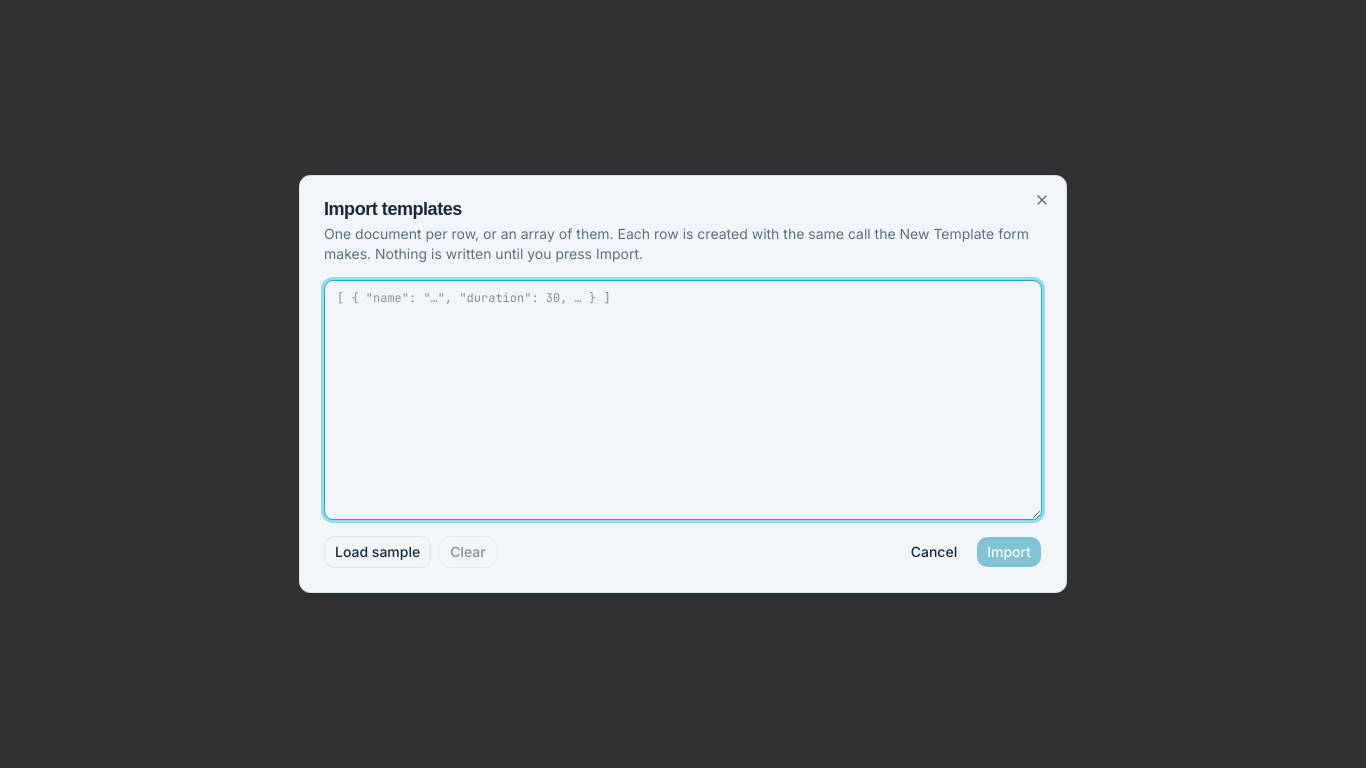
Test: ImportTemplatesModal › reports coercions and still allows the import
This screenshot has width=1366, height=768.
Click the button "Load sample": (378, 552) [324, 536, 431, 568]
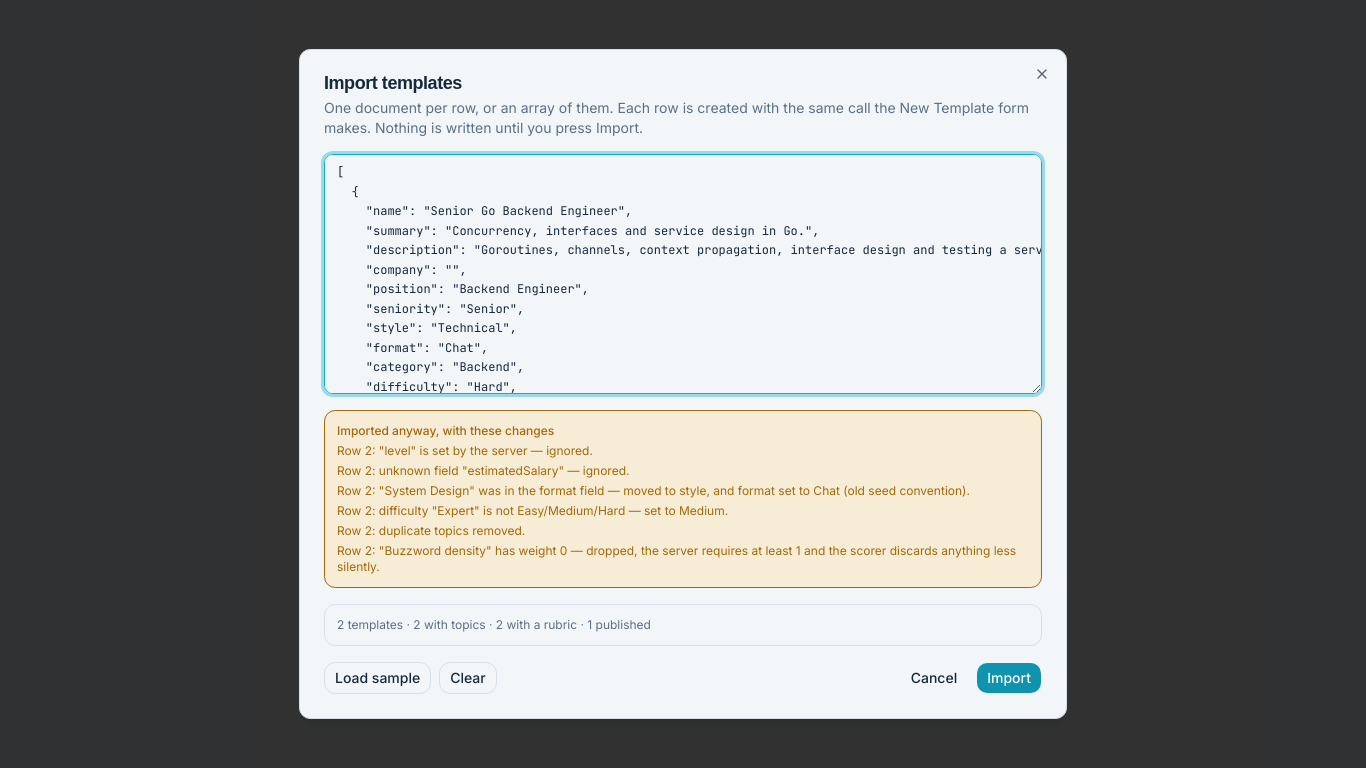
Expected: the text "Imported anyway, with these changes" is shown, [337, 423, 554, 438]
Expected: the button "Import" is enabled, [976, 662, 1042, 694]
